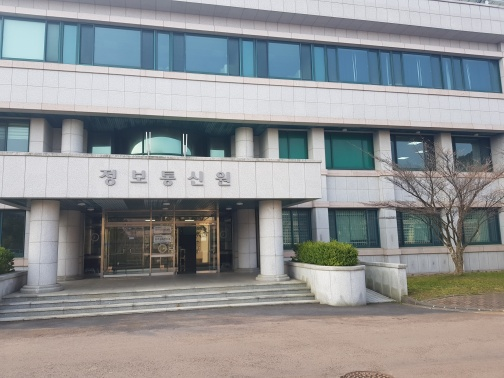Information Telecommunication Center: (1, 5, 299, 281), (60, 101, 251, 278), (87, 205, 238, 275), (85, 156, 251, 197)
